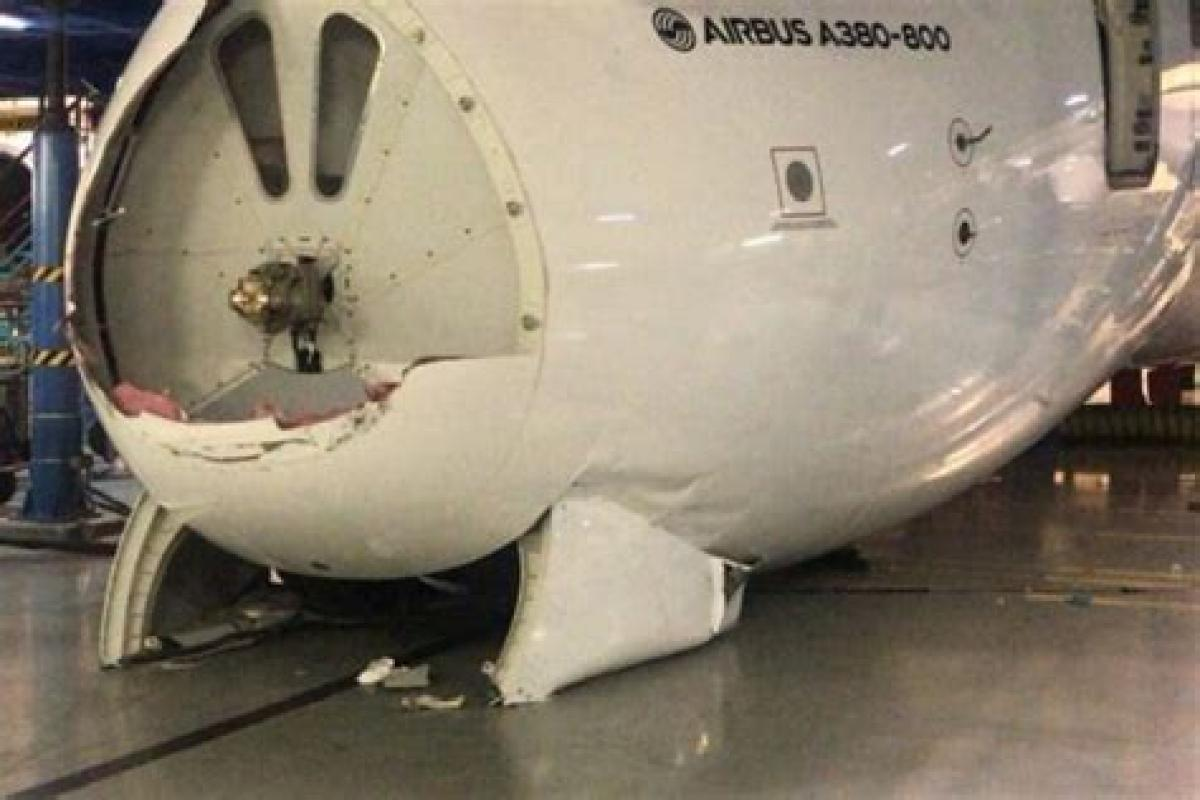Fuselage_damage: (62, 0, 527, 424), (540, 447, 763, 584)
